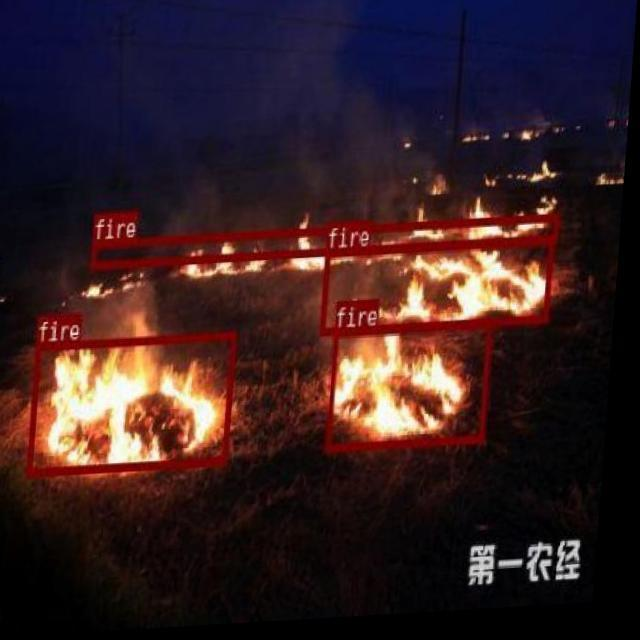Fire: (40, 320, 244, 478), (109, 222, 554, 278), (364, 258, 576, 336), (343, 336, 492, 441)
Smoke: (87, 0, 430, 317)
